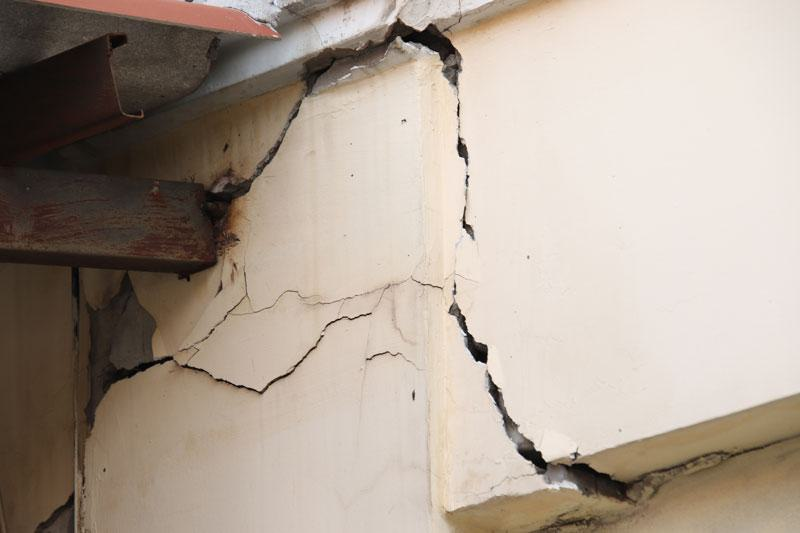crack: (414, 12, 480, 150), (290, 306, 376, 371), (176, 346, 265, 403), (477, 375, 530, 437), (443, 295, 482, 362), (453, 162, 486, 237)
